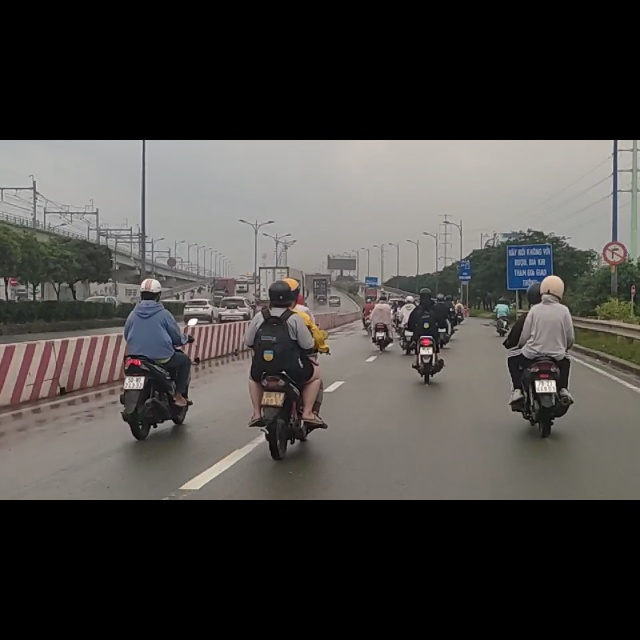bien_cam: (605, 179, 627, 223)
